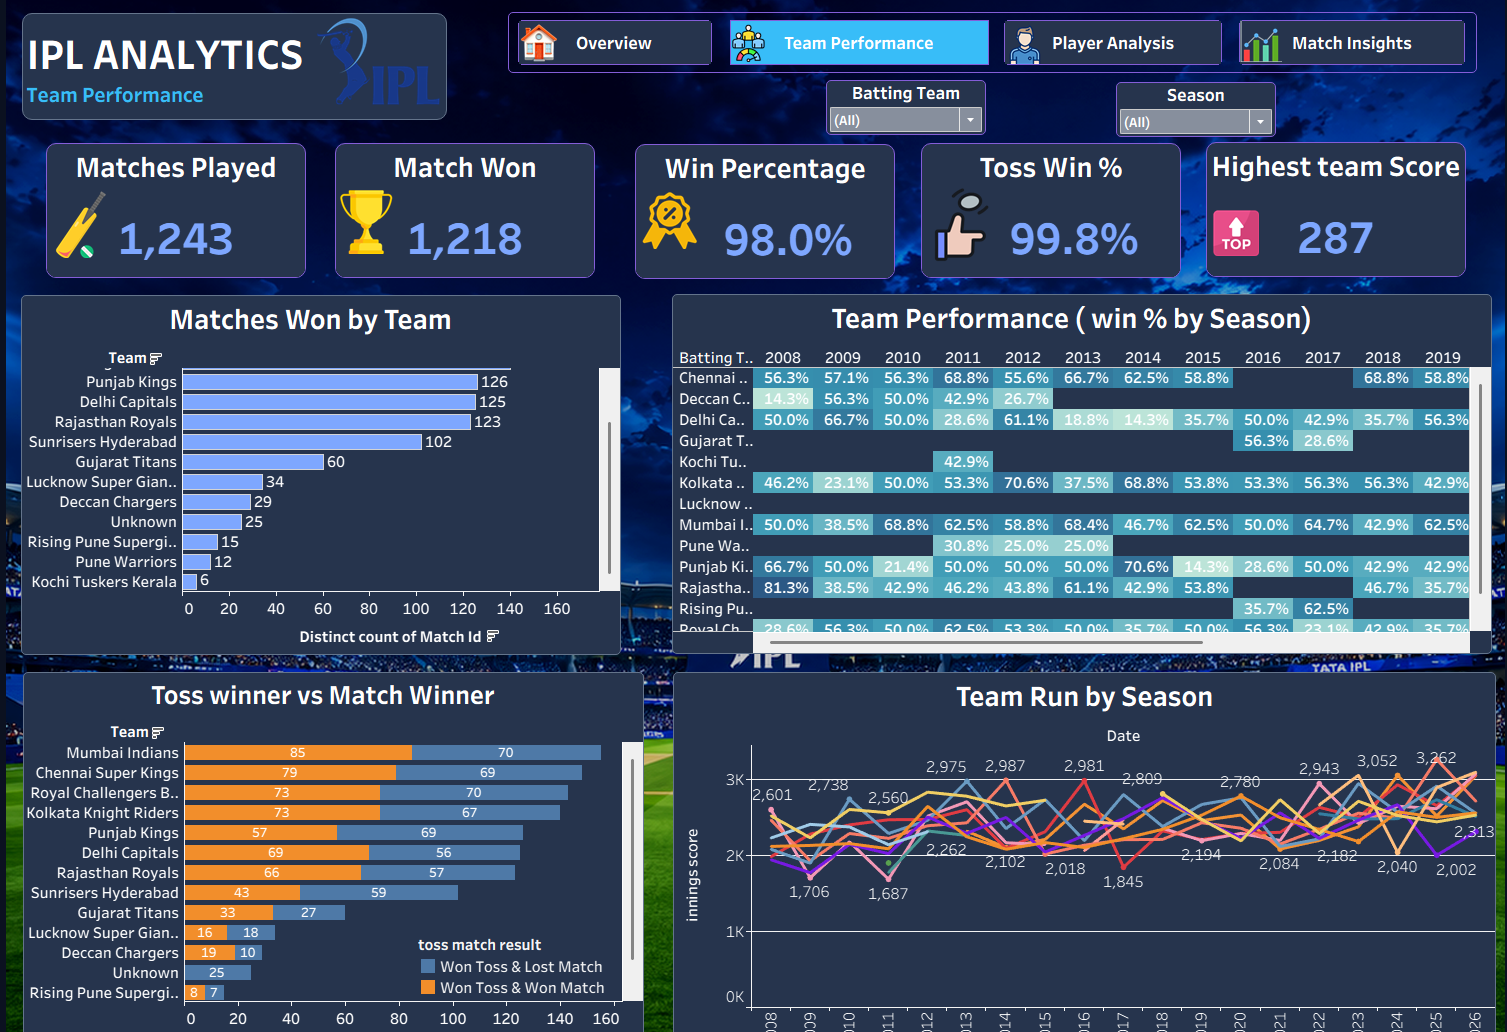

Layout of this report page (visuals, bound fields, positions):
{"tool":"tableau","page":{"name":"Dashboard 2","canvas":[1500,960],"ordinal":0},"visuals":[{"type":"image","param":"Image/ipl_stadium_background_1500x960.png","box":[0,0,1500,960]},{"type":"title","box":[35,9,425,104]},{"type":"image","param":"Image/new.png","box":[331,27,125,83]},{"type":"blank","box":[513,39,893,59]},{"type":"dashboard-object","box":[521,46,190,45]},{"type":"image","param":"Image/team_per-removebg-preview.png","box":[715,46,55,44]},{"type":"dashboard-object","box":[720,46,233,45]},{"type":"dashboard-object","box":[962,46,217,45]},{"type":"image","param":"Image/palyer-removebg-preview.png","box":[967,46,46,40]},{"type":"dashboard-object","box":[1185,46,213,45]},{"type":"image","param":"Image/match_insights-removebg-preview.png","box":[1185,47,41,46]},{"type":"image","param":"Image/overview-removebg-preview.png","box":[522,48,43,45]},{"type":"filter","title":"orange","param":"[federated.11lt0wj1xww80l173m1cm0uaoaj8].[yr:date:ok]","box":[1254,109,160,60]},{"type":"image","param":"Image/orangecap.png","box":[595,113,148,75]},{"type":"image","param":"Image/puplecap.png","box":[900,116,165,71]},{"type":"worksheet","title":"orange","mark":"Automatic","box":[591,120,271,159]},{"type":"worksheet","title":"purple","mark":"Automatic","box":[897,120,271,161]},{"type":"worksheet","title":"winner","mark":"Automatic","box":[290,122,271,157]},{"type":"worksheet","title":"tot mat","mark":"Automatic","box":[26,128,245,143]},{"type":"image","param":"Image/ipl-trophy-png-5-Transparent-Images-Free-228x171.png","box":[275,128,67,69]},{"type":"image","param":"Image/bat-removebg-preview.png","box":[8,164,105,96]},{"type":"worksheet","title":"Tournament 6's","mark":"Automatic","box":[1205,178,275,176]},{"type":"image","param":"Image/six.png","box":[1173,225,140,126]},{"type":"worksheet","title":"orange cap img","mark":"Shape","box":[591,269,271,167]},{"type":"worksheet","title":"pur cap img","mark":"Shape","box":[897,270,271,167]},{"type":"worksheet","title":"winner img","mark":"Shape","box":[290,271,271,167]},{"type":"worksheet","title":"tot team","mark":"Automatic","box":[24,296,248,143]},{"type":"image","param":"Image/team_-removebg-preview.png","box":[25,366,93,68]},{"type":"worksheet","title":"4's","mark":"Automatic","box":[1205,369,272,187]},{"type":"image","param":"Image/four.png","box":[1180,429,117,127]},{"type":"worksheet","title":"mat by seas","mark":"Bar","rows":["date"],"cols":["match_id"],"box":[25,487,520,460]},{"type":"worksheet","title":"Sheet 12","mark":"Bar","cols":["match_id"],"box":[611,487,520,460]},{"type":"text","box":[44,514,72,30]},{"type":"worksheet","title":"Sheet 14","mark":"Pie","cols":["Calculation_0927468607639557","Calculation_0927468607676423"],"box":[1176,594,309,301]},{"type":"legend","title":"Sheet 12","param":"[federated.11lt0wj1xww80l173m1cm0uaoaj8].[none:toss_decision:nk]","box":[993,772,140,64]}]}

Visuals, with their boxes on the page's 1500x960 design canvas (x1, y1, x2, y2). These are canvas units, not pixel positions in the 1507x1032 screenshot, which may show the page scaled, cropped or inside an application window:
image: 0 0 1500 960
title: 35 9 460 113
image: 331 27 456 110
blank: 513 39 1406 98
dashboard-object: 521 46 711 91
image: 715 46 770 90
dashboard-object: 720 46 953 91
dashboard-object: 962 46 1179 91
image: 967 46 1013 86
dashboard-object: 1185 46 1398 91
image: 1185 47 1226 93
image: 522 48 565 93
"orange" filter: 1254 109 1414 169
image: 595 113 743 188
image: 900 116 1065 187
"orange" worksheet: 591 120 862 279
"purple" worksheet: 897 120 1168 281
"winner" worksheet: 290 122 561 279
"tot mat" worksheet: 26 128 271 271
image: 275 128 342 197
image: 8 164 113 260
"Tournament 6's" worksheet: 1205 178 1480 354
image: 1173 225 1313 351
"orange cap img" worksheet (Shape marks): 591 269 862 436
"pur cap img" worksheet (Shape marks): 897 270 1168 437
"winner img" worksheet (Shape marks): 290 271 561 438
"tot team" worksheet: 24 296 272 439
image: 25 366 118 434
"4's" worksheet: 1205 369 1477 556
image: 1180 429 1297 556
"mat by seas" worksheet (Bar marks): 25 487 545 947
"Sheet 12" worksheet (Bar marks): 611 487 1131 947
text: 44 514 116 544
"Sheet 14" worksheet (Pie marks): 1176 594 1485 895
"Sheet 12" legend: 993 772 1133 836
